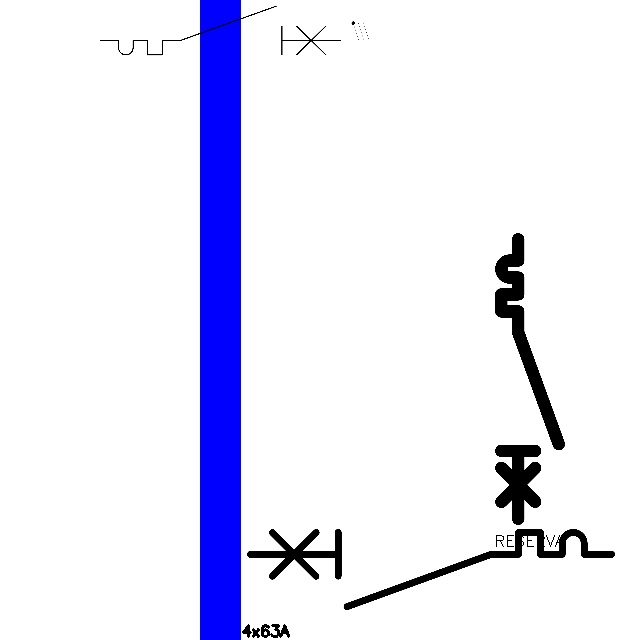interruptor_termomagnetico: (241, 523, 621, 616), (494, 232, 566, 526), (94, 0, 346, 61)
